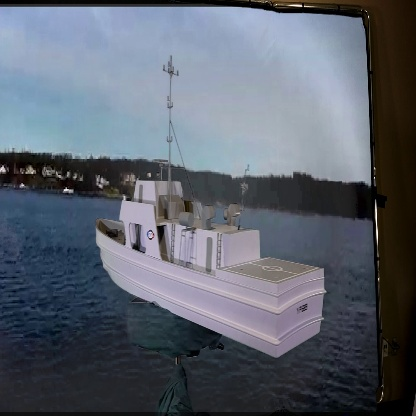YP689: (95, 58, 326, 362)
